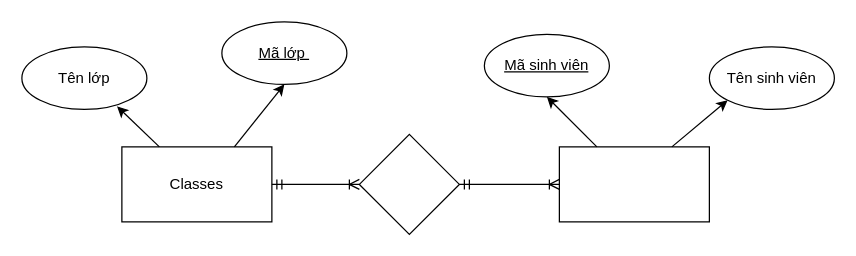
Image size: 856x256. Some labels were removed from this diagram. Each missing label, with the centre of its shape:
Chứa: point 408,183
Student: point 633,184
